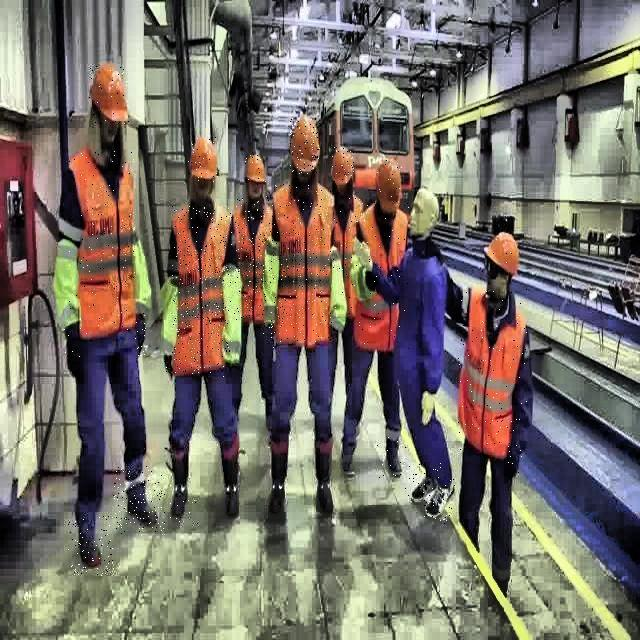safety_helmet: (89, 66, 129, 125), (290, 118, 320, 174), (482, 232, 520, 272), (376, 159, 402, 217), (188, 138, 218, 184), (330, 146, 354, 186), (244, 154, 266, 187)
safety_jacket: (69, 150, 135, 334), (458, 287, 527, 459), (172, 206, 232, 374), (273, 183, 333, 345), (357, 202, 409, 352), (234, 196, 274, 320), (332, 196, 362, 316)
